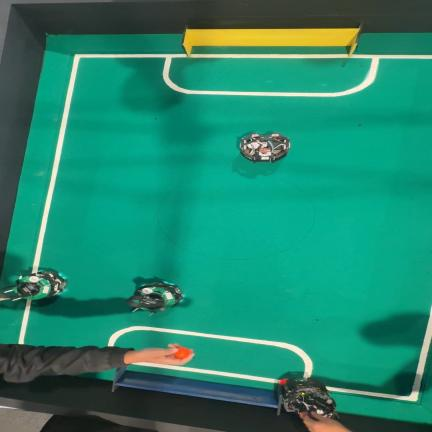cancha: (0, 33, 432, 424), (83, 371, 114, 380)
limites: (32, 54, 432, 270), (108, 326, 313, 378), (329, 306, 432, 402), (184, 367, 276, 383), (18, 300, 31, 343)
pelota: (174, 348, 190, 358)
porteria: (113, 368, 282, 415), (182, 23, 362, 57)
robot: (280, 378, 335, 417), (3, 270, 67, 300), (127, 281, 183, 313), (239, 133, 290, 163)
